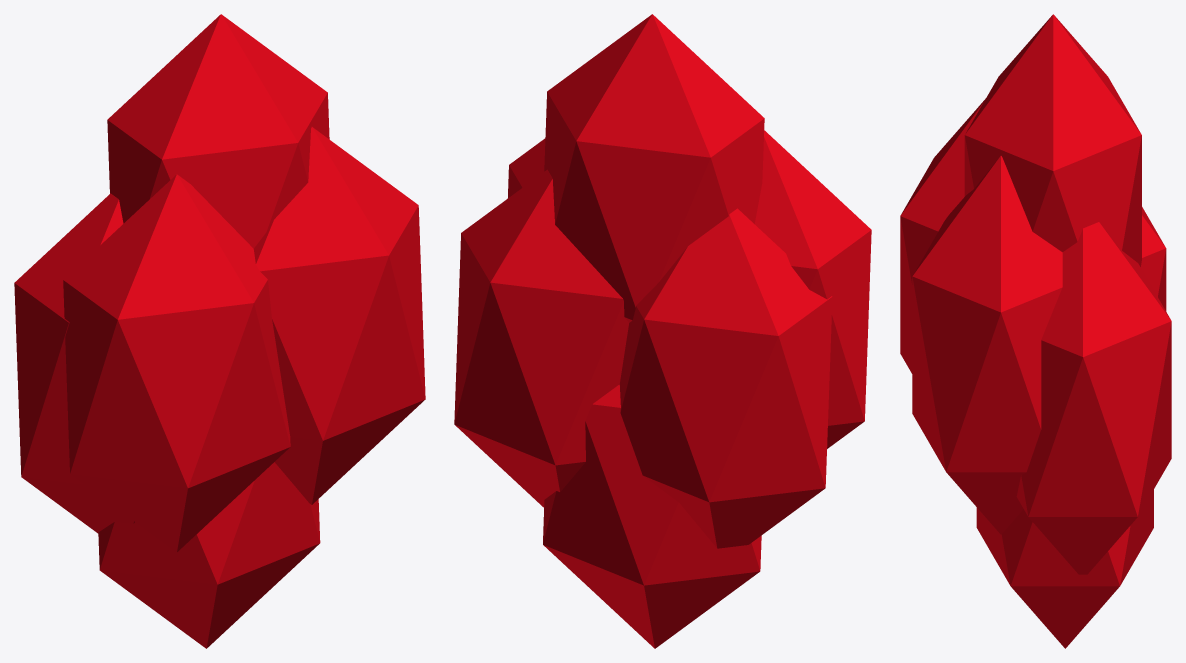
Rendered from TempRockPowerup.fbx.
The picture shows the model from 3 angles, left to right: view 1: azimuth 30°, elevation 25°; view 2: azimuth 150°, elevation 25°; view 3: azimuth 270°, elevation 25°; orthographic projection.
Visible parts, largest first — view 1: Rock PowerUp; view 2: Rock PowerUp; view 3: Rock PowerUp.
Boxes of the visible parts, box(x1,y1,x2,y2) form: Rock PowerUp: box(14, 14, 425, 648); Rock PowerUp: box(454, 14, 871, 648); Rock PowerUp: box(900, 14, 1171, 648).
Bounding box in the file's own units: 307 × 510 × 196.
